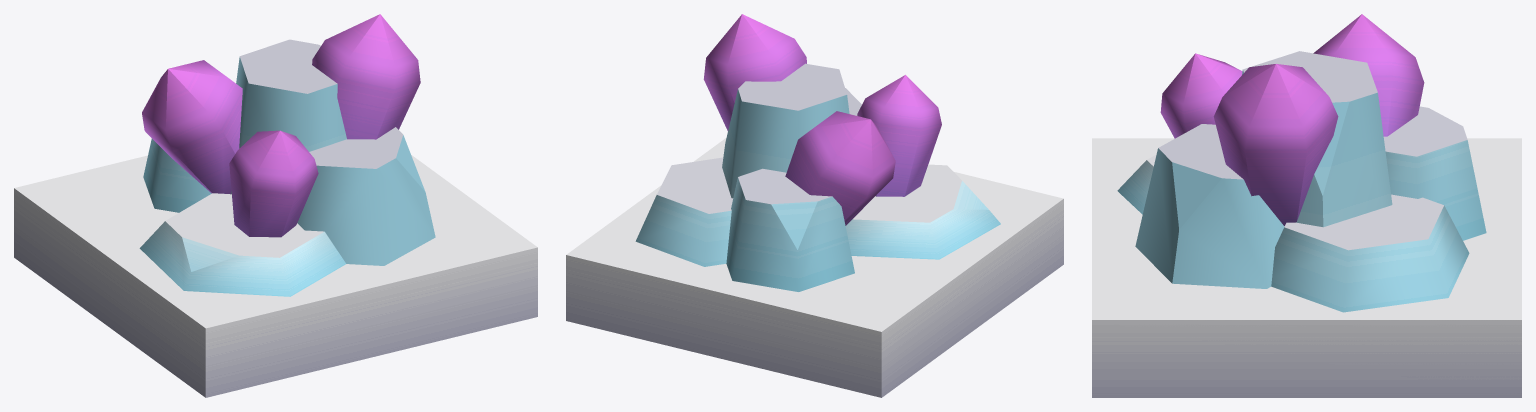
File: snow-tile-crystal.glb
3 views of the same model, side by side, from view 1: azimuth 30°, elevation 25°; view 2: azimuth 150°, elevation 25°; view 3: azimuth 270°, elevation 25° (orthographic). The views are drawn at different scales.
Visible parts, largest first — view 1: snow-tile-crystal; view 2: snow-tile-crystal; view 3: snow-tile-crystal.
Part boxes in pixels (box(x1,y1,x2,y2)): snow-tile-crystal: box(14, 14, 537, 397); snow-tile-crystal: box(566, 14, 1063, 397); snow-tile-crystal: box(1092, 14, 1521, 397).
Bounding box in the file's own units: 1 × 0.7518 × 1.
1 material, 1 textured.
